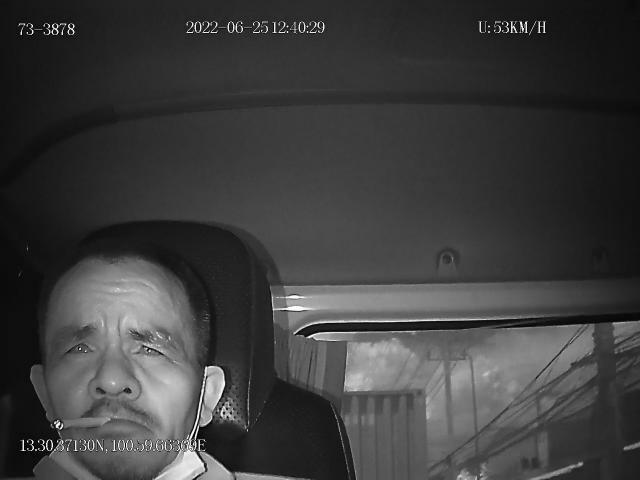SafeDriving: (126, 328, 176, 366), (59, 329, 102, 366)
Smoking: (50, 417, 110, 429)
